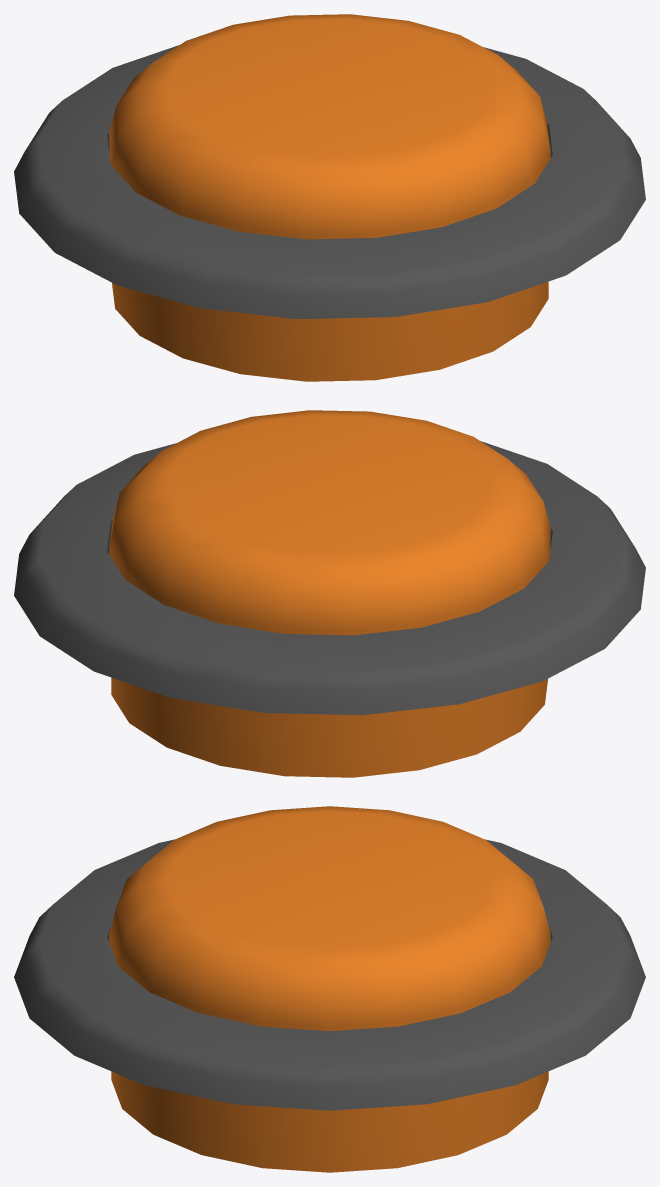
The model's file is button7_pressed.glb.
The picture shows the model from 3 angles, top to bottom: view 1: azimuth 30°, elevation 25°; view 2: azimuth 150°, elevation 25°; view 3: azimuth 270°, elevation 25°; orthographic projection.
Parts seen in each view (by area): view 1: SM_SimpleButton_B.001, SM_SimpleButton_Base_B.001; view 2: SM_SimpleButton_B.001, SM_SimpleButton_Base_B.001; view 3: SM_SimpleButton_B.001, SM_SimpleButton_Base_B.001.
Part boxes in pixels (bbox=[...]): SM_SimpleButton_B.001: bbox=[109, 14, 550, 381]; SM_SimpleButton_Base_B.001: bbox=[14, 45, 645, 319]; SM_SimpleButton_B.001: bbox=[109, 410, 550, 777]; SM_SimpleButton_Base_B.001: bbox=[14, 441, 645, 715]; SM_SimpleButton_B.001: bbox=[109, 806, 550, 1172]; SM_SimpleButton_Base_B.001: bbox=[14, 839, 645, 1110].
Bounding box in the file's own units: 24.07 × 8.4 × 24.07.
